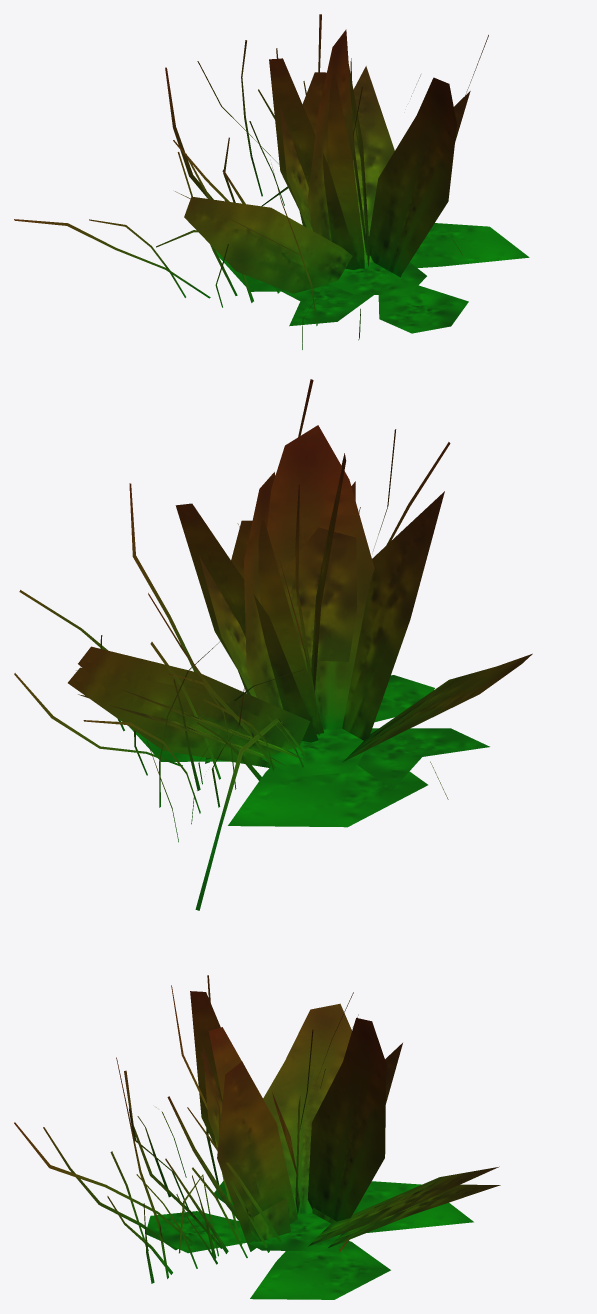
File: Thatching Grass_LOD1_Var11_uddmcgbia.glb
3 renders of one model, top to bottom at view 1: azimuth 30°, elevation 25°; view 2: azimuth 150°, elevation 25°; view 3: azimuth 270°, elevation 25°, orthographic. The views are drawn at different scales.
Visible parts, largest first — view 1: _c98a_Var11_LOD1; view 2: _c98a_Var11_LOD1; view 3: _c98a_Var11_LOD1.
Part boxes in pixels (x1=…): _c98a_Var11_LOD1: x1=14, y1=14, x2=529, y2=349; _c98a_Var11_LOD1: x1=14, y1=379, x2=532, y2=910; _c98a_Var11_LOD1: x1=14, y1=975, x2=500, y2=1299.
Bounding box in the file's own units: 0.1898 × 0.1002 × 0.1807.
Materials: 1 (1 with a texture image).
